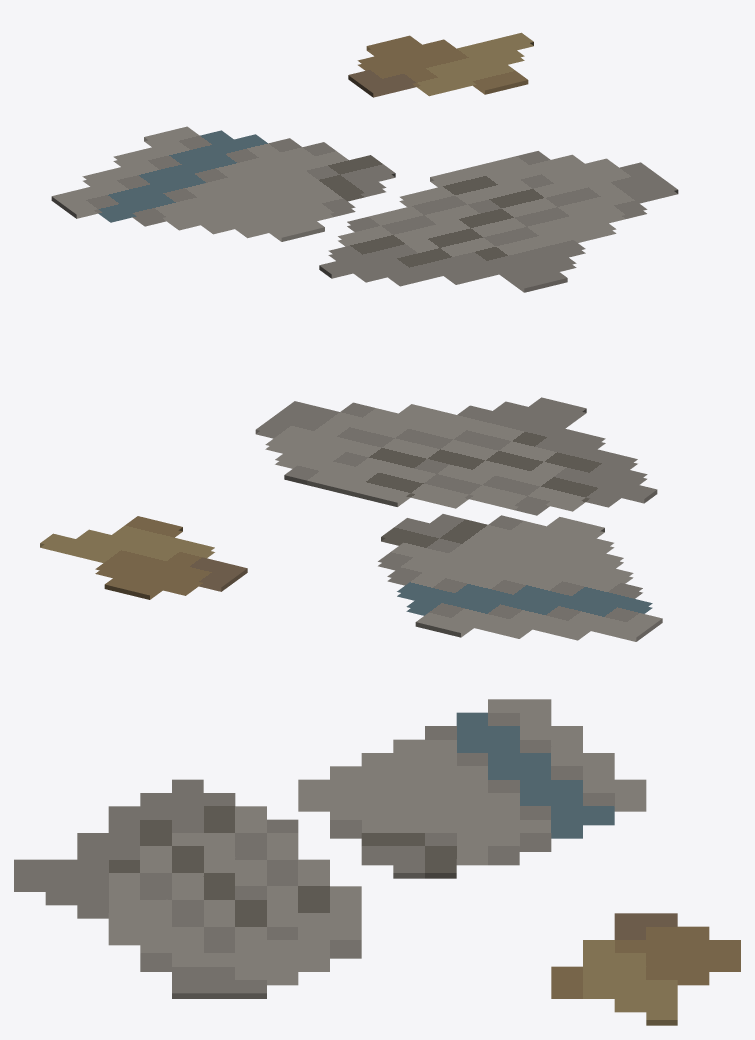
The model's file is CMU3DDecorFloorPaper1South.glb.
The picture shows the model from 3 angles, top to bottom: view 1: azimuth 30°, elevation 25°; view 2: azimuth 150°, elevation 25°; view 3: azimuth 270°, elevation 25°; orthographic projection. The views are drawn at different scales.
Parts seen in each view (by area): view 1: source paper patch 3, source paper patch 2, source paper patch 1; view 2: source paper patch 3, source paper patch 2, source paper patch 1; view 3: source paper patch 3, source paper patch 2, source paper patch 1.
Part boxes in pixels (bbox=[...]): source paper patch 3: bbox=[319, 151, 678, 292]; source paper patch 2: bbox=[51, 126, 395, 241]; source paper patch 1: bbox=[348, 32, 533, 97]; source paper patch 3: bbox=[255, 397, 657, 515]; source paper patch 2: bbox=[378, 514, 662, 641]; source paper patch 1: bbox=[40, 516, 247, 599]; source paper patch 3: bbox=[14, 779, 361, 998]; source paper patch 2: bbox=[298, 699, 646, 878]; source paper patch 1: bbox=[551, 913, 740, 1025].
Bounding box in the file's own units: 0.75 × 0.006 × 0.7188.
3 materials, 3 textured.
